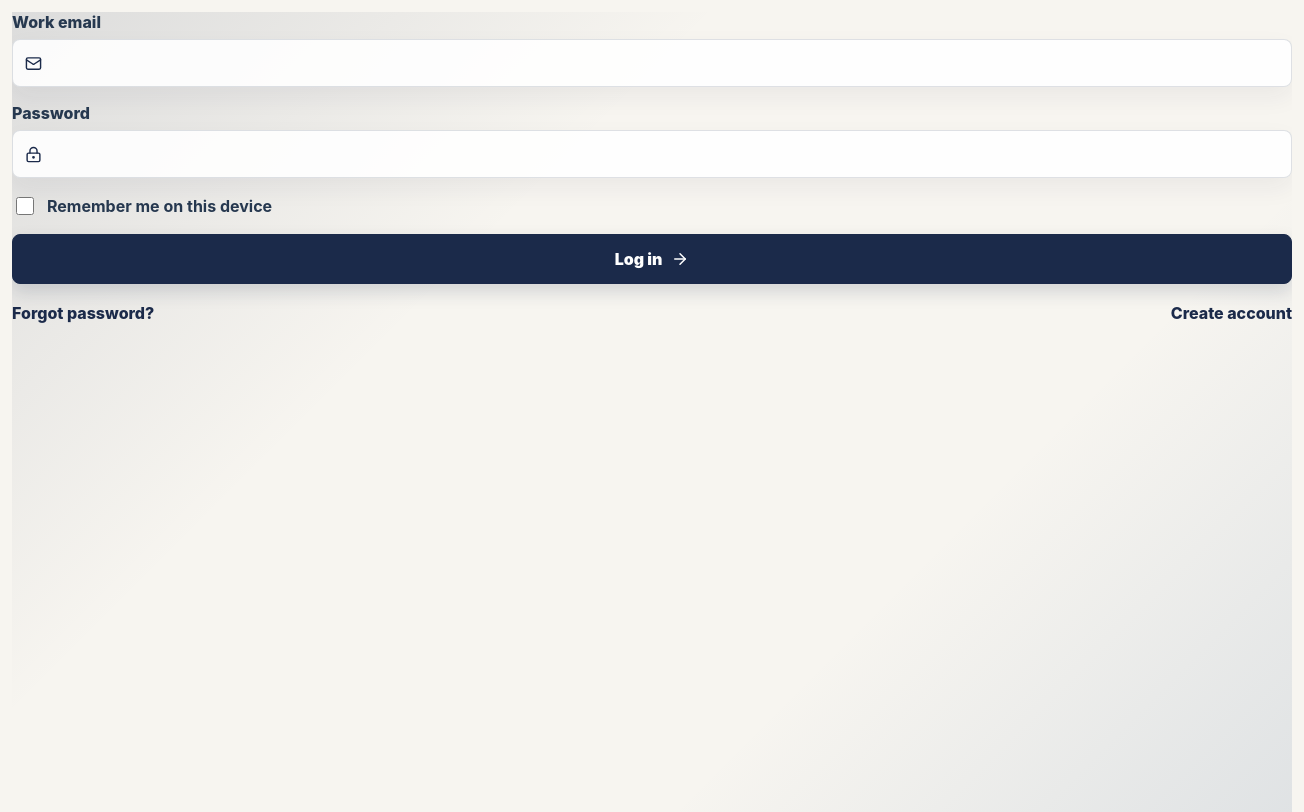
Test case: auth forms › submits login and handles invalid credentials
Type "ari@example.com" into the field labelled "Work email" at point(660, 63), box [52,41,1269,85]
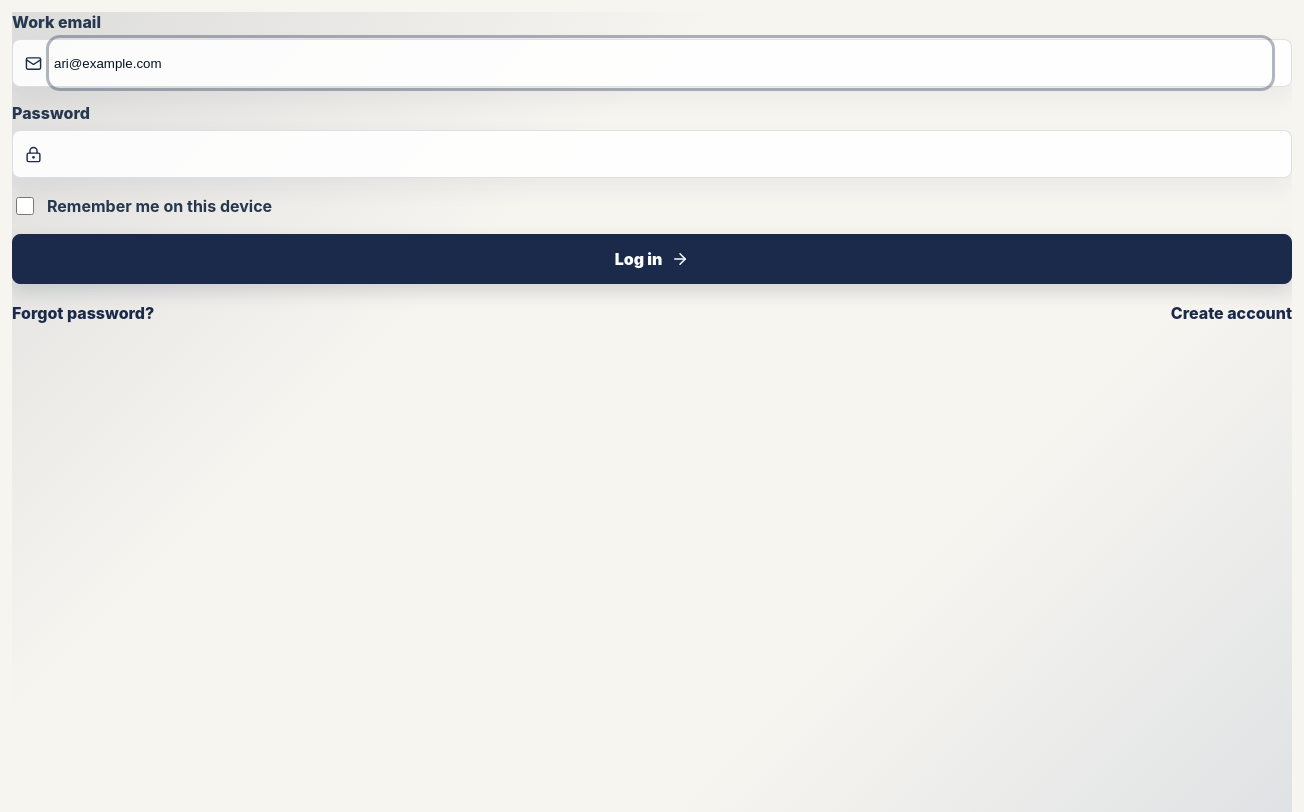
Type "wrong" into the password field labelled "Password" at point(660, 154), box [52,132,1269,176]
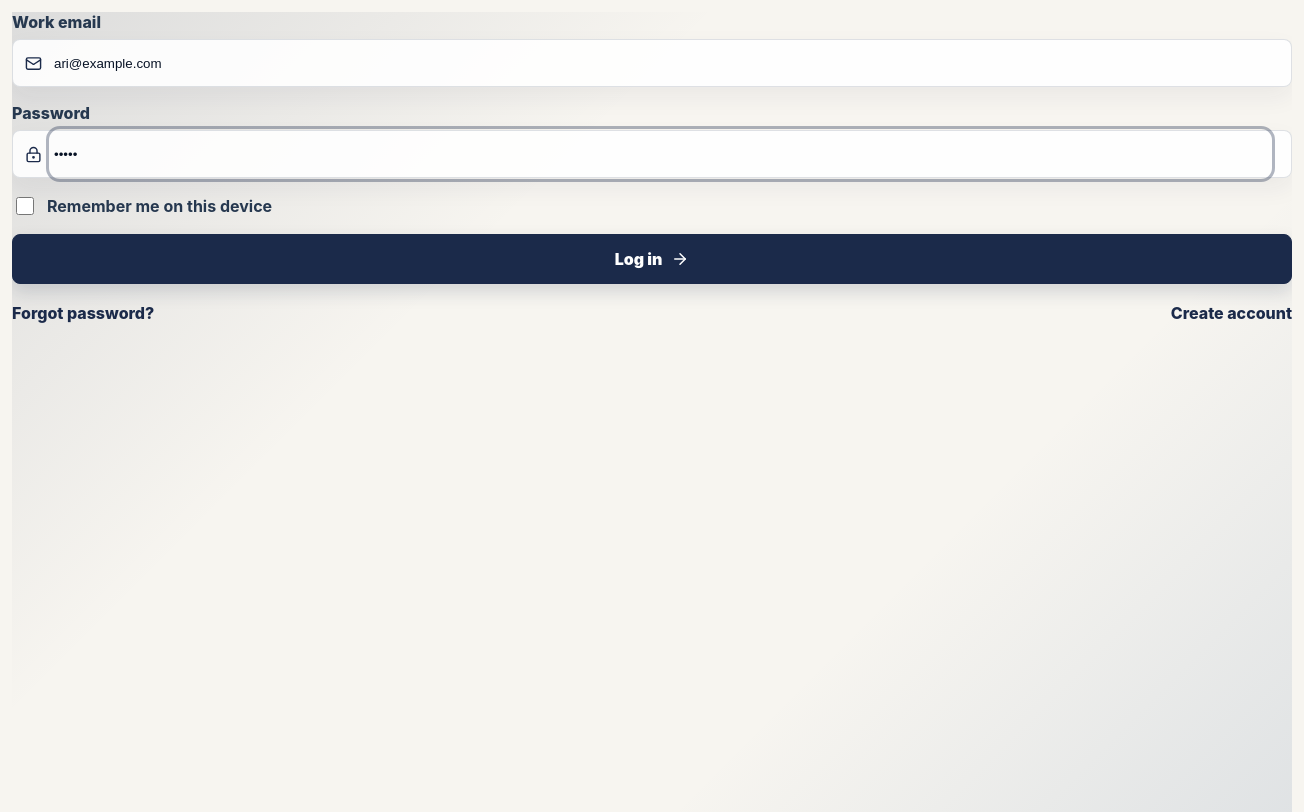
Click the button "Log in" at point(652, 259), box [12,234,1292,284]
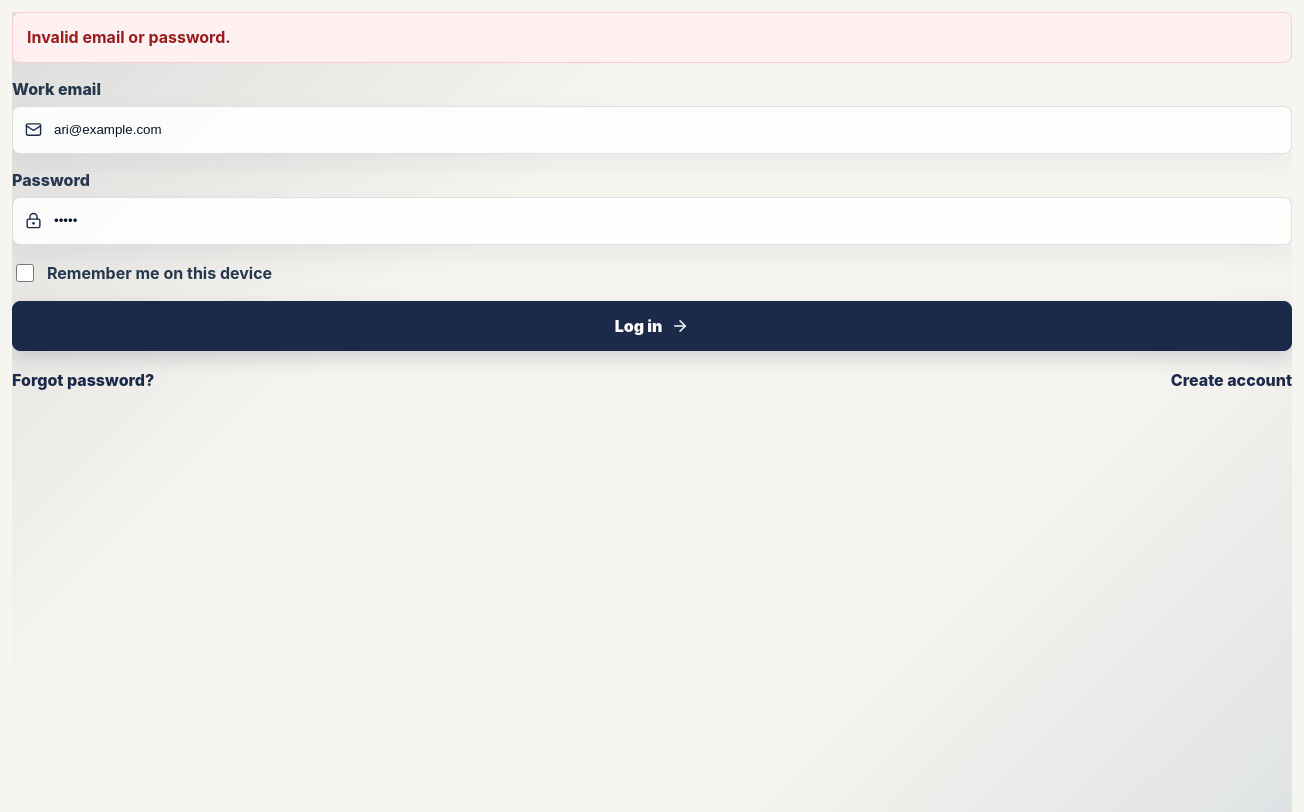
Check: the message reads "Invalid email or password.", box [27,27,231,47]
